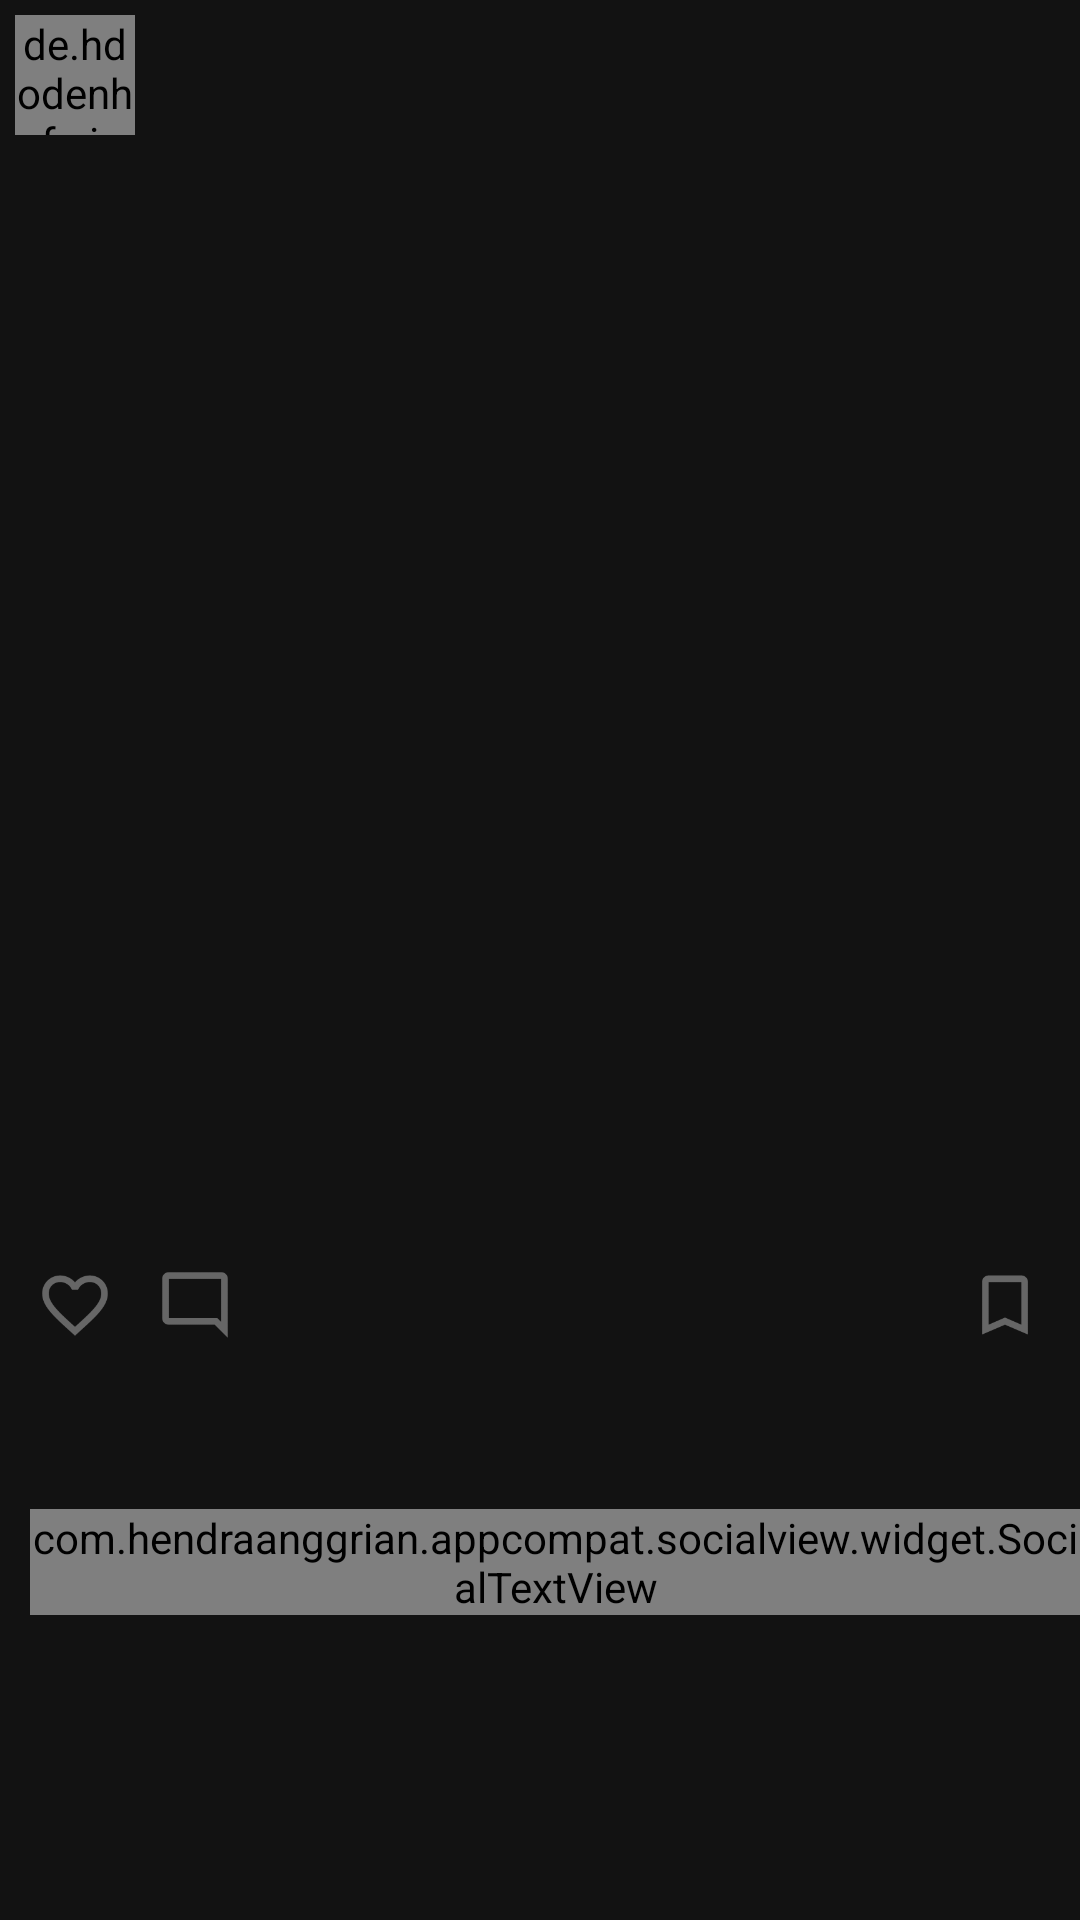

Where icons sit on this 1080 x 1920 app screen, as (x1, y1, x2, y2):
comment: (162, 1272, 228, 1337)
fav: (42, 1275, 108, 1336)
